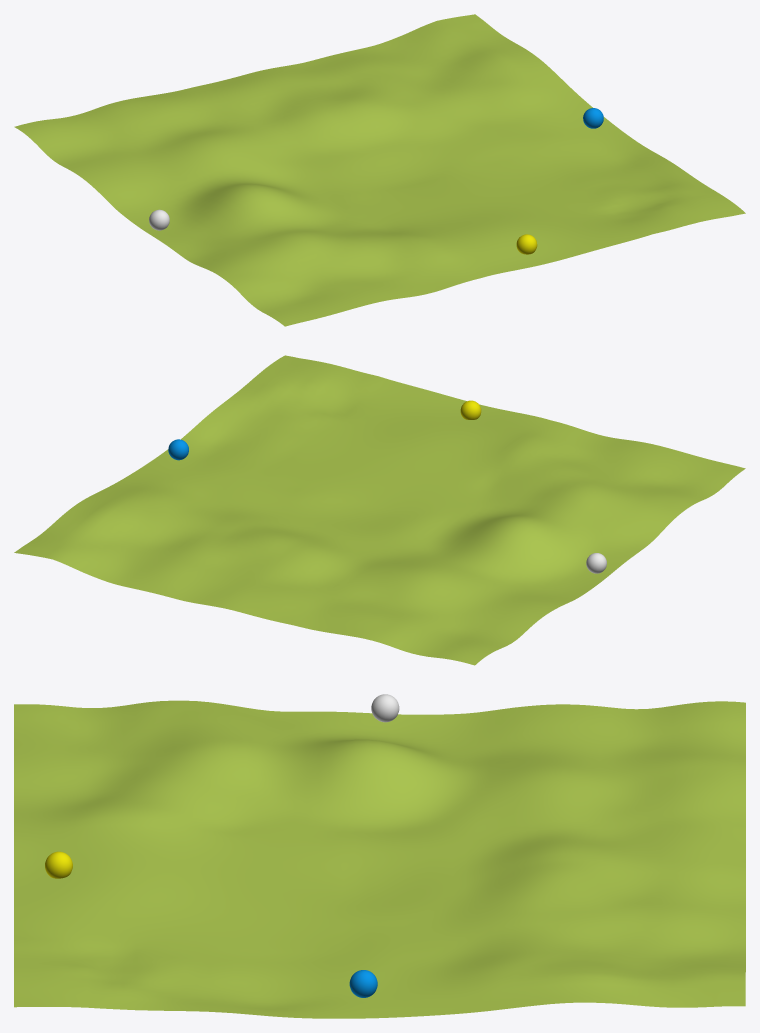
The model's file is marqueurs_chemin_courve1.fbx.
3 views of the same model, one above another, from view 1: azimuth 30°, elevation 25°; view 2: azimuth 150°, elevation 25°; view 3: azimuth 270°, elevation 25° (orthographic). The views are drawn at different scales.
Visible parts, largest first — view 1: chemin_courve1; view 2: chemin_courve1; view 3: chemin_courve1, pSphere42, pSphere44, pSphere43.
Boxes of the visible parts, <box> form: chemin_courve1: <box>14,14,745,326</box>; chemin_courve1: <box>14,355,745,665</box>; chemin_courve1: <box>14,700,745,1018</box>; pSphere42: <box>371,694,399,722</box>; pSphere44: <box>349,970,377,997</box>; pSphere43: <box>45,851,72,878</box>.
Size of the model in its own units: 708 by 40.02 by 720.
